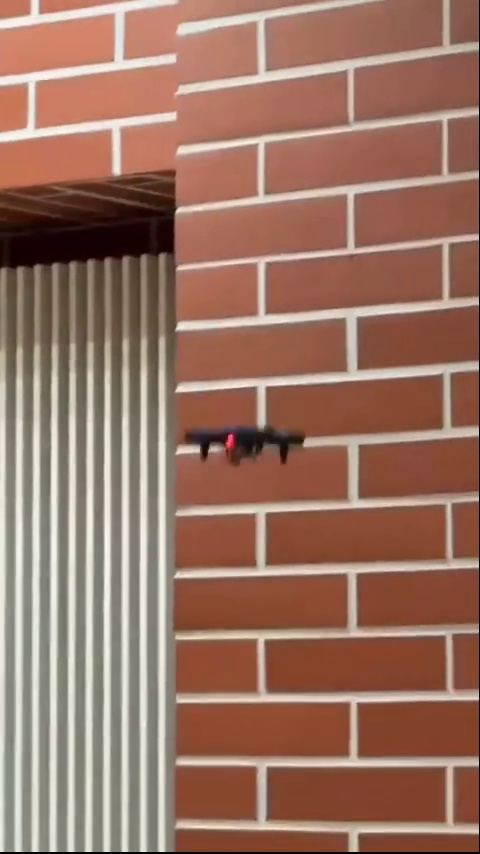drone: (179, 418, 308, 465)
